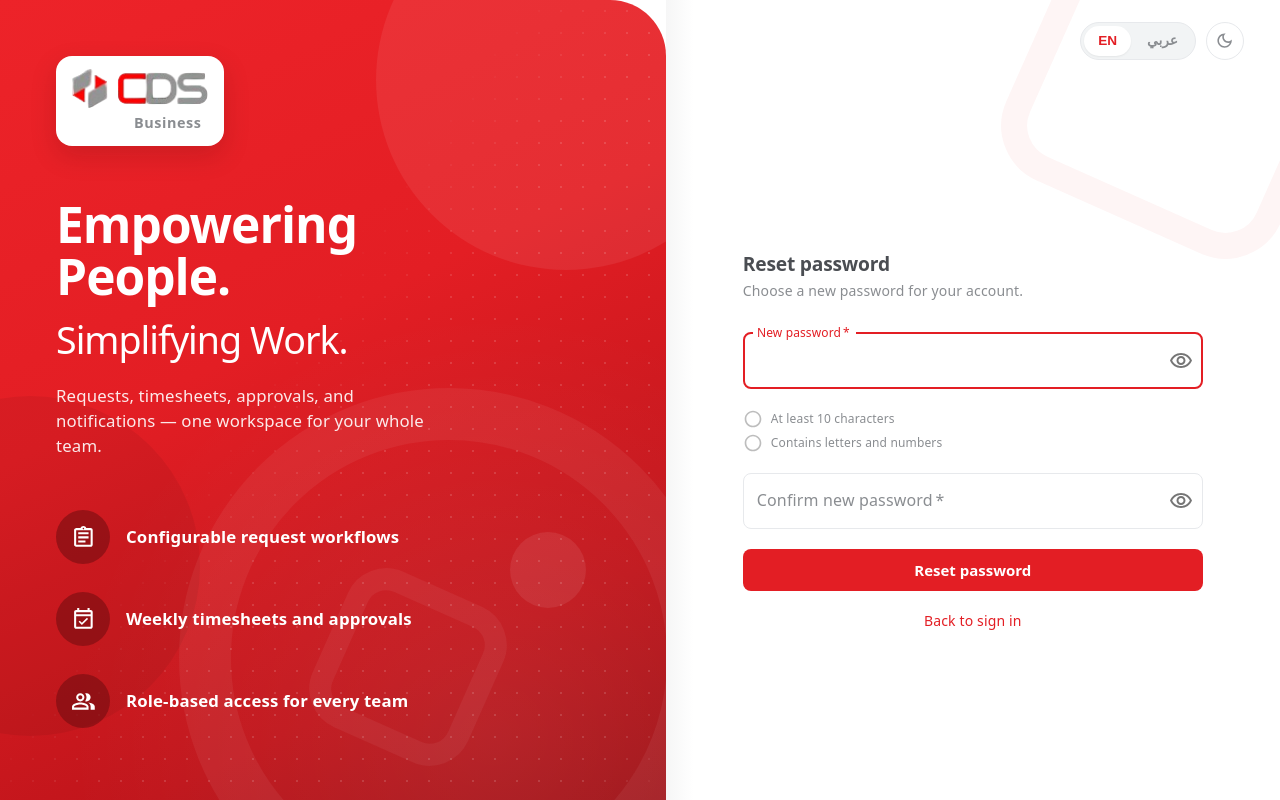
it: reset password › resets successfully and links back to login
Expected: the button "Reset password" is shown, [743,549,1203,591]
Type "N3w!SecurePass99" into the password field labelled "New password *" at (948, 361), box [743,333,1153,389]
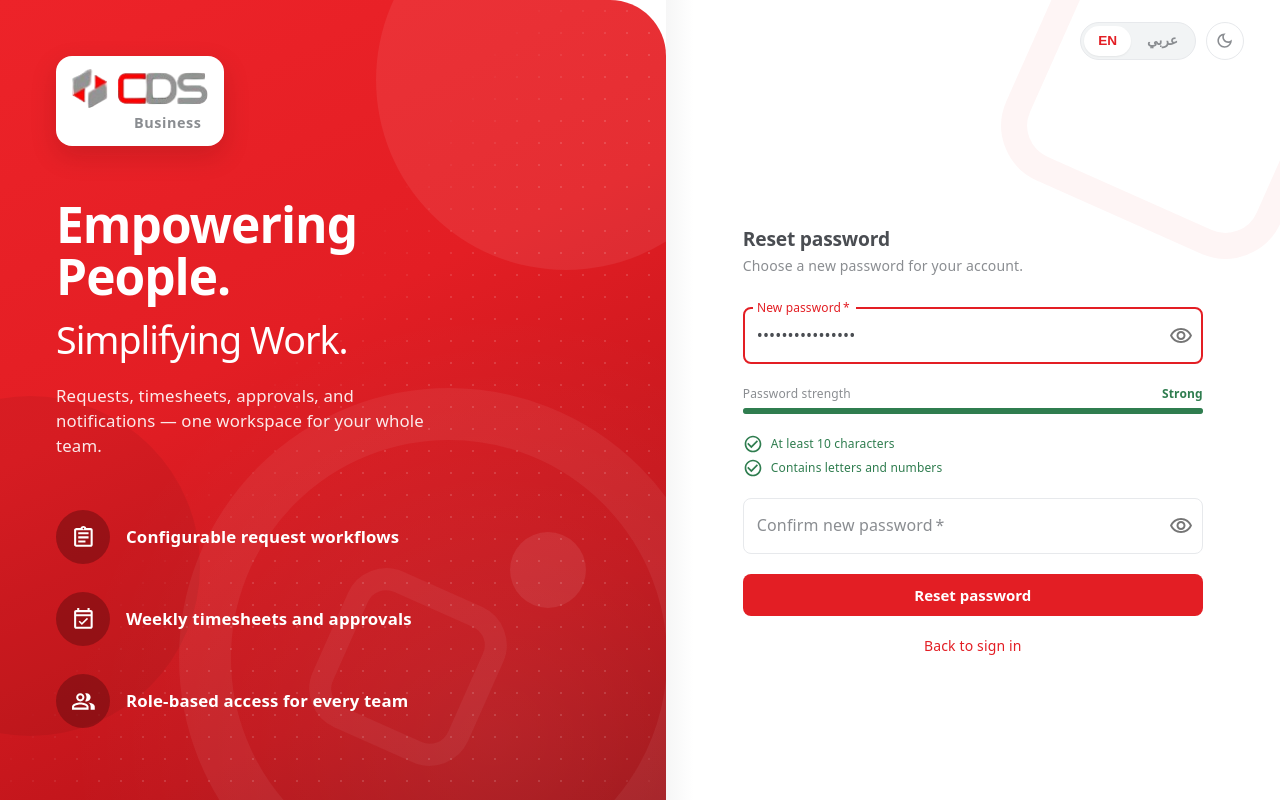
Type "N3w!SecurePass99" into the password field labelled "Confirm new password *" at (948, 526), box [743,498,1153,554]
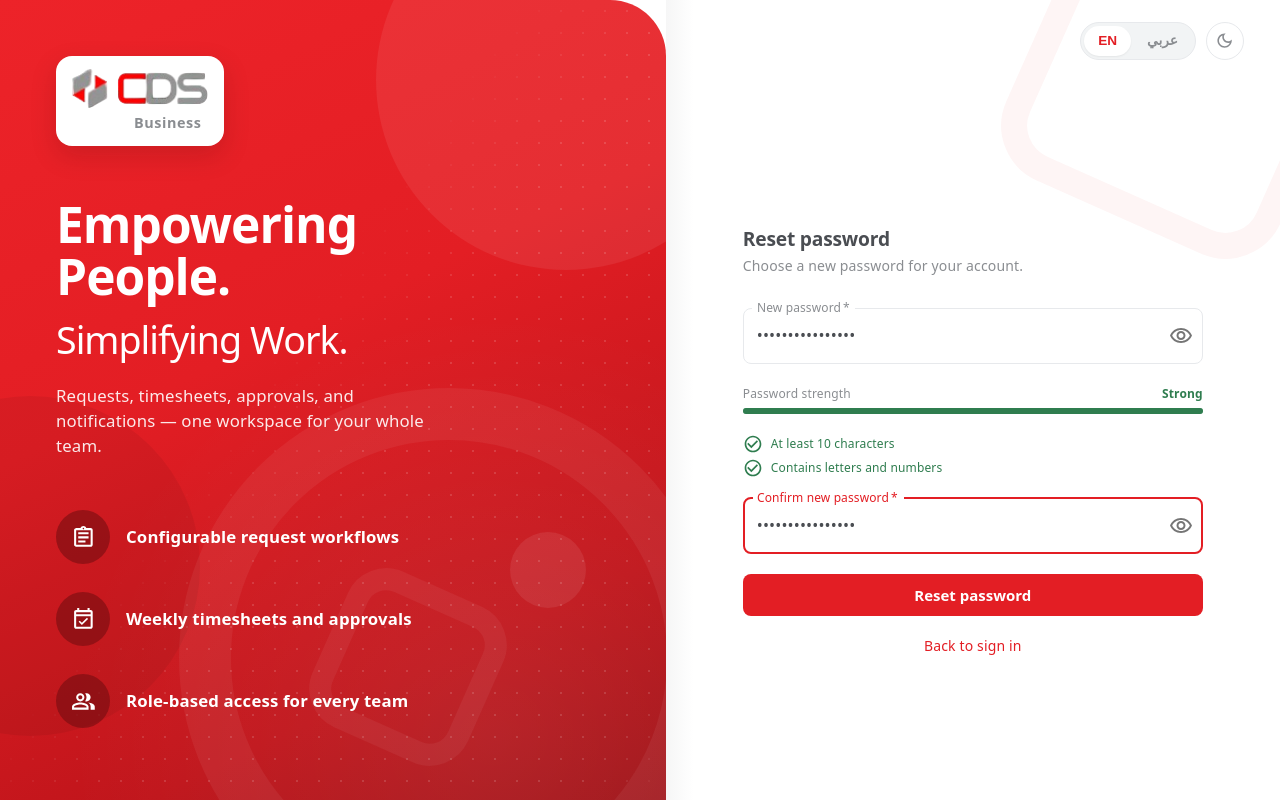
Click the button "Reset password" at (973, 595), box [743,574,1203,616]
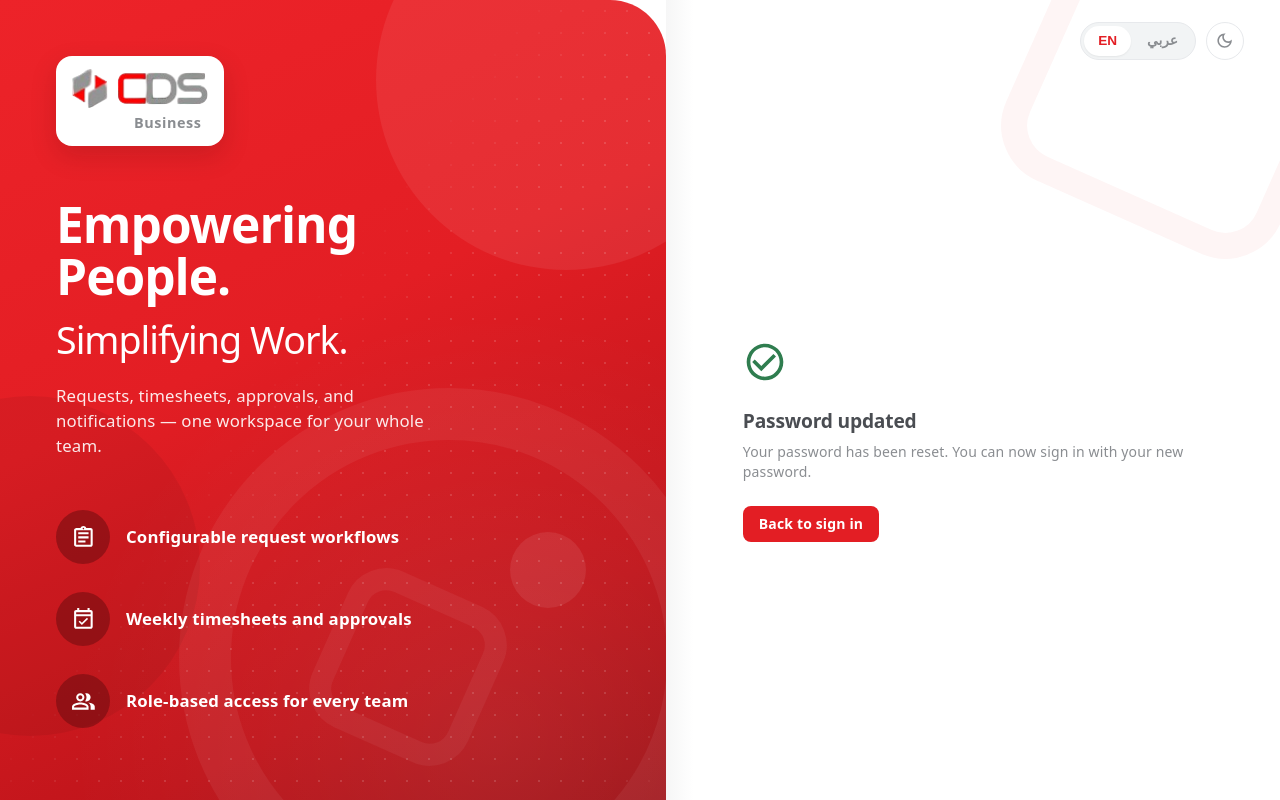
Expected: the heading "Password updated" is shown, [743,407,916,434]
